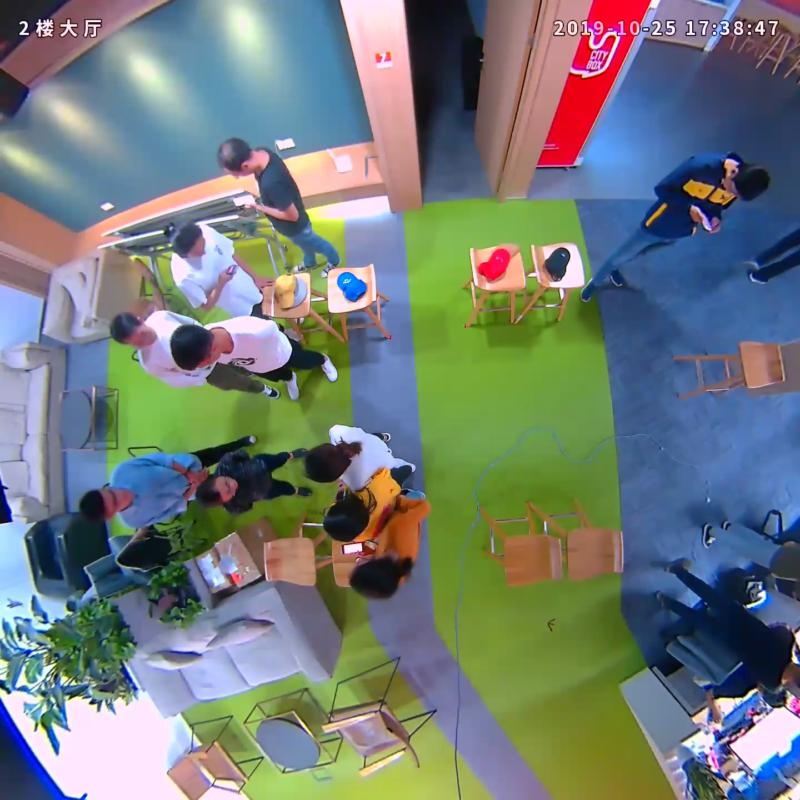head: (170, 323, 221, 371), (349, 555, 400, 599), (324, 496, 369, 541), (303, 441, 349, 483), (79, 488, 134, 521), (723, 165, 770, 202), (109, 312, 154, 349), (216, 136, 255, 178), (168, 221, 207, 260), (195, 473, 238, 507)
